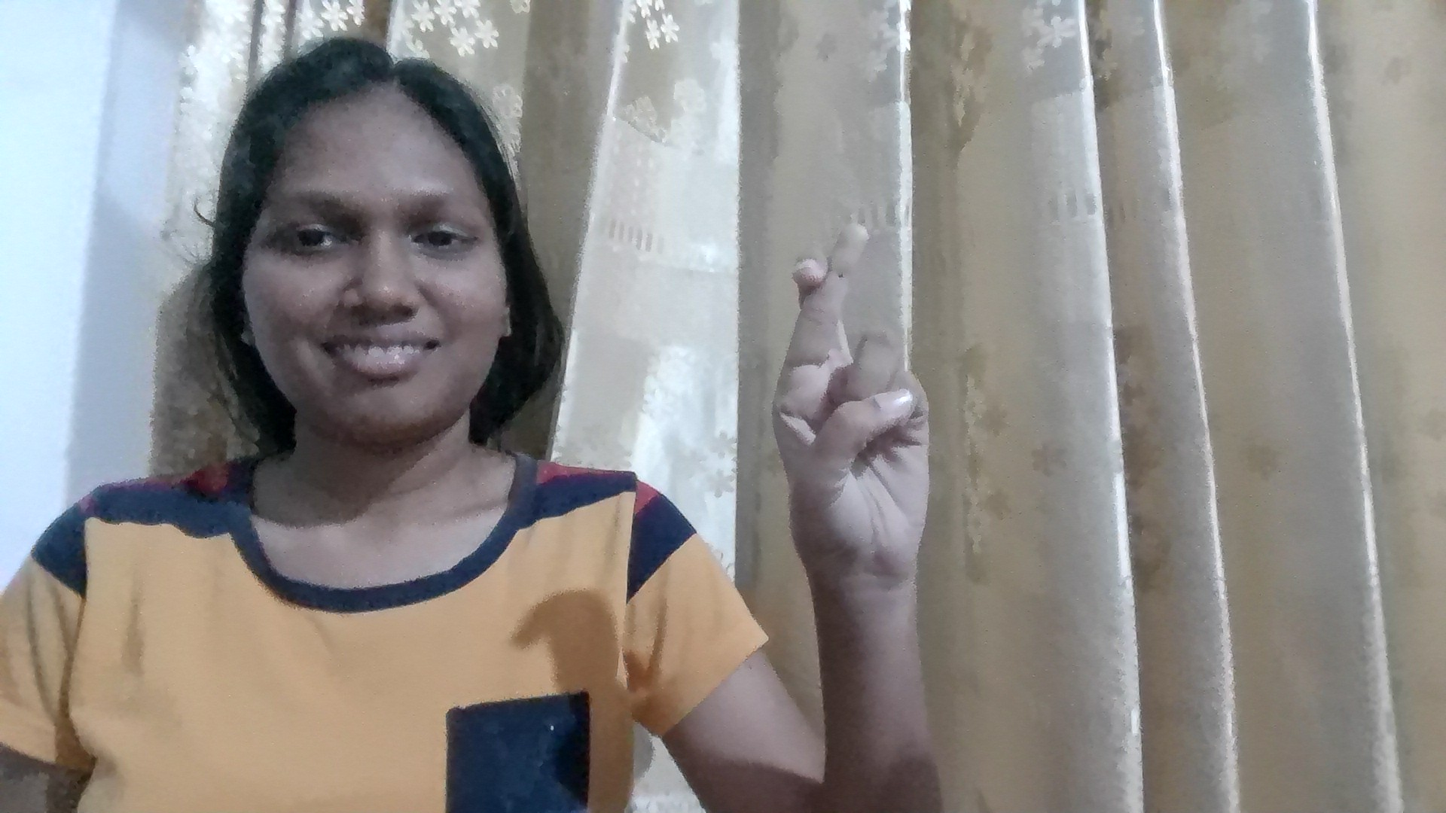Good_Luck: (636, 181, 1093, 680)
